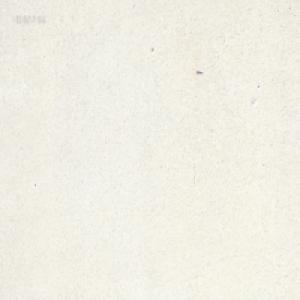Nail: (196, 70, 203, 74)
